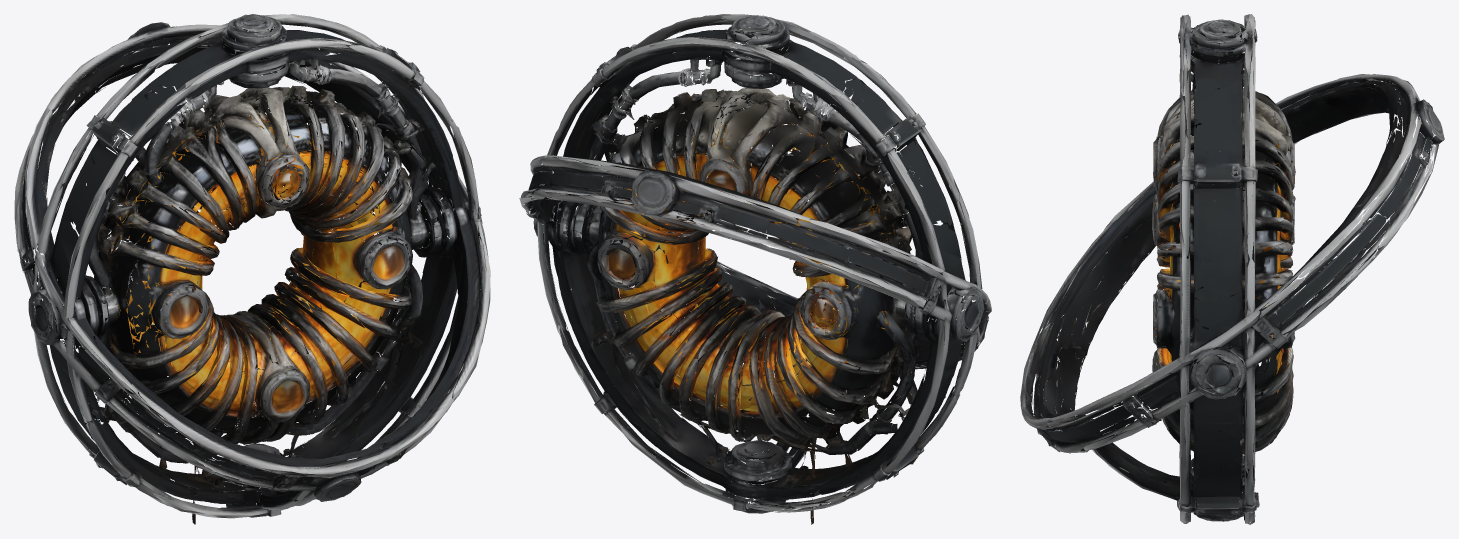
Rendered from engineer_magnetic_bottle_cell.glb.
3 renders of one model, left to right at view 1: azimuth 30°, elevation 25°; view 2: azimuth 150°, elevation 25°; view 3: azimuth 270°, elevation 25°, orthographic.
Parts seen in each view (by area): view 1: node_0; view 2: node_0; view 3: node_0.
Part boxes in pixels (box(x1,y1,x2,y2)): node_0: box(14, 14, 490, 524); node_0: box(519, 14, 991, 524); node_0: box(1020, 14, 1444, 524).
Size of the model in its own units: 1.07 by 1.16 by 0.9093.
1 material, 1 textured.
